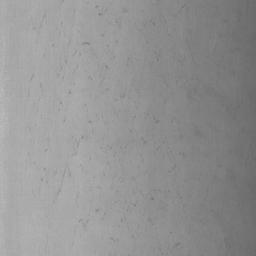Silk spot: (72, 136, 88, 150)
